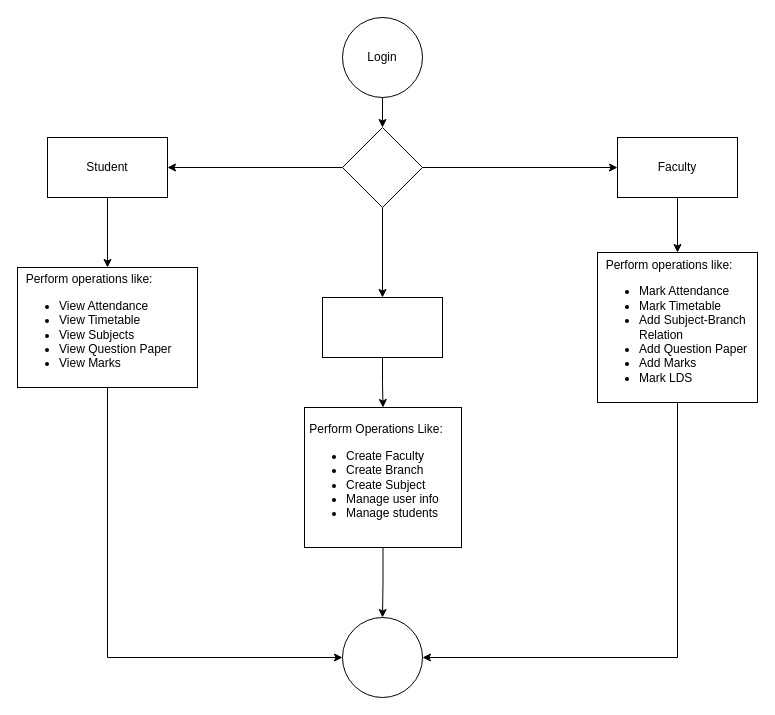
Some shapes in this 775 by 715 pixel diagram are drawn without their labels. Here are the shapes that lost their labels. From the top down, the centre of each, then its label:
At (382,167): "Type of User".
At (382,327): "Admin".
At (382,657): "Logout".
